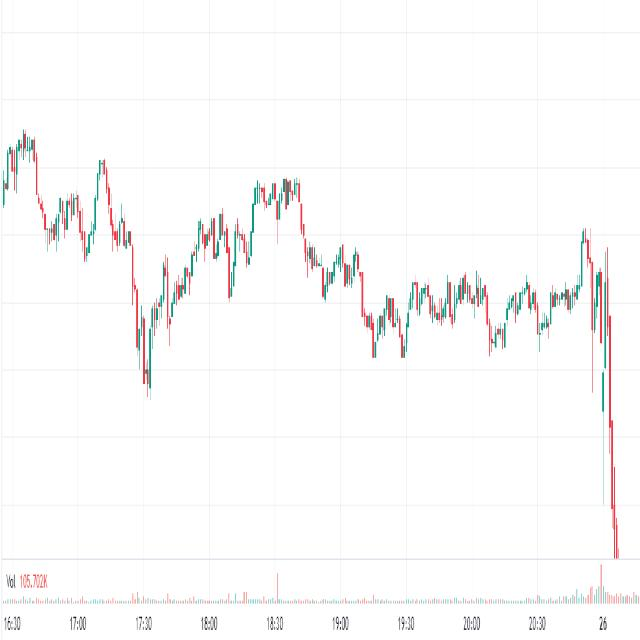Double-Bottom: (220, 170, 262, 308)
Double-Top: (328, 231, 368, 324)
Inverse-Head-Shoulders: (128, 214, 168, 409)
